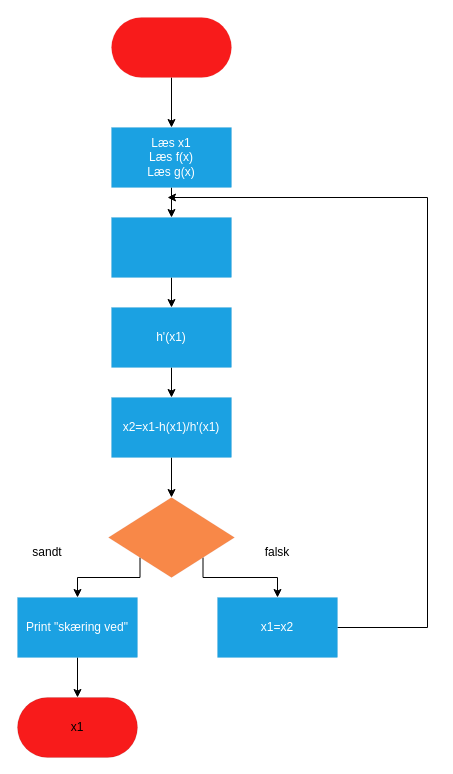
This 453x774 diagram has some shape labels left out. The centre of each missing label's shape, as x and y in pixels:
"h(x1)=f(x1)-g(x1)" goes at (171,247).
"Start Newton-Raphson" goes at (171,47).
"|x2-x1|<0,0001" goes at (171,537).
